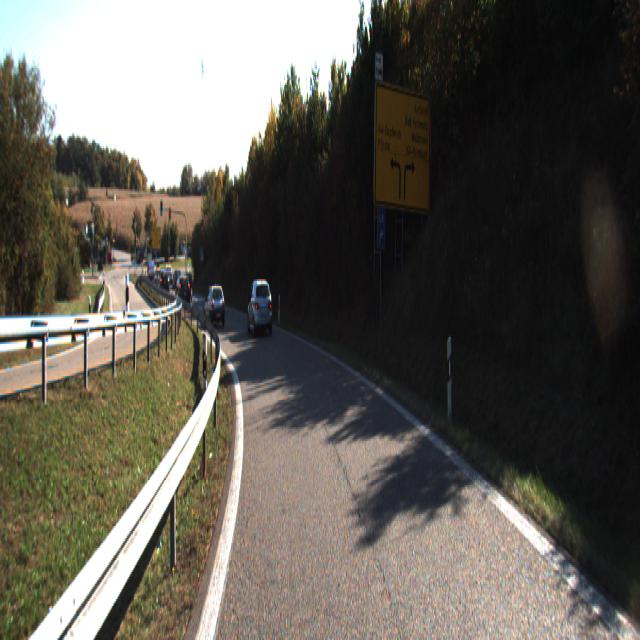Car: (246, 276, 272, 334), (204, 284, 226, 327), (176, 274, 191, 305)
